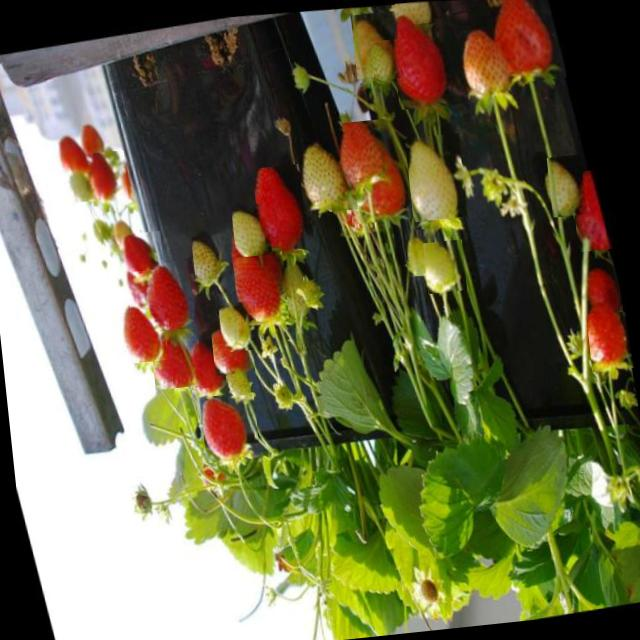ripe: (342, 116, 418, 224), (389, 1, 462, 110), (491, 0, 566, 83), (252, 162, 314, 254), (232, 245, 289, 324), (134, 260, 196, 332), (200, 393, 260, 463), (584, 299, 634, 372), (570, 168, 613, 252), (149, 324, 203, 389), (118, 300, 168, 364), (576, 256, 625, 316), (186, 338, 228, 398), (120, 230, 165, 280), (88, 150, 128, 206), (210, 326, 254, 375), (59, 127, 95, 175), (126, 268, 160, 310)
unripe: (404, 132, 468, 222), (296, 130, 358, 214), (351, 10, 402, 78), (547, 154, 587, 218), (422, 238, 467, 294), (230, 202, 272, 257), (190, 232, 232, 287), (218, 300, 258, 352), (403, 228, 438, 276), (370, 38, 404, 80), (394, 0, 442, 25), (71, 164, 100, 202)
